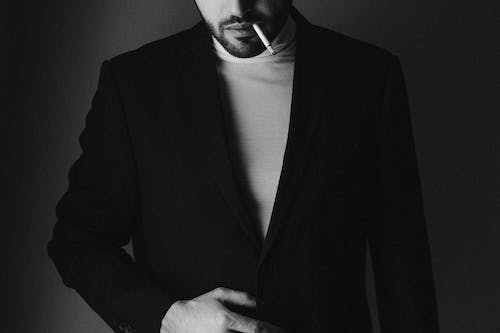cigarette: (251, 21, 278, 57)
